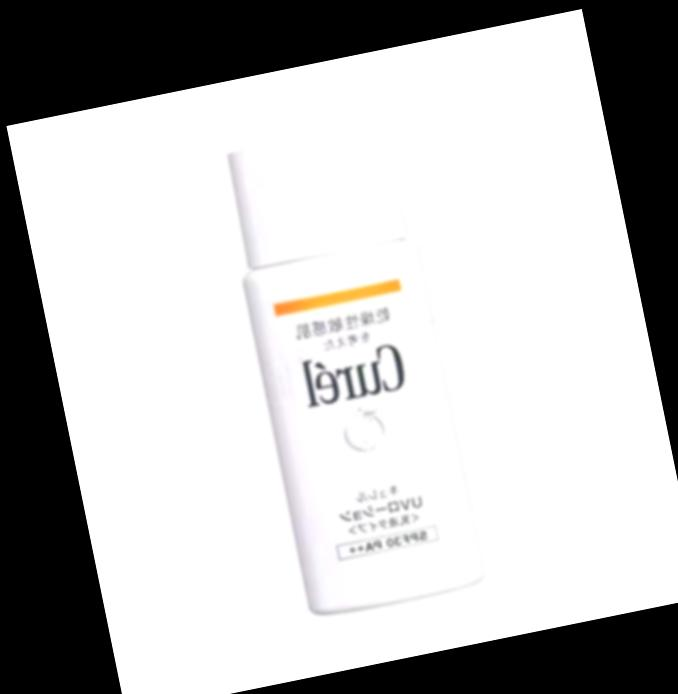cosmetic: (215, 114, 487, 614)
